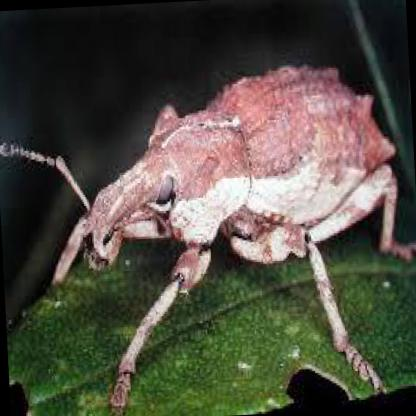ash weevil: (4, 63, 407, 411)
